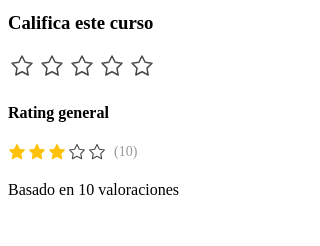
Test: RatingSection Component › shows error message and rolls back on API failure
Click the button named "Rate 5 stars".
click(142, 66)  # box [128, 52, 156, 80]
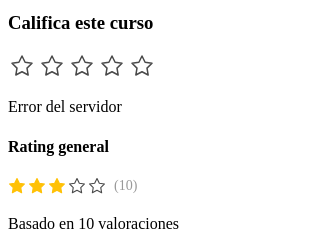
Check: the text "Error del servidor" is shown, box [8, 98, 122, 115]
